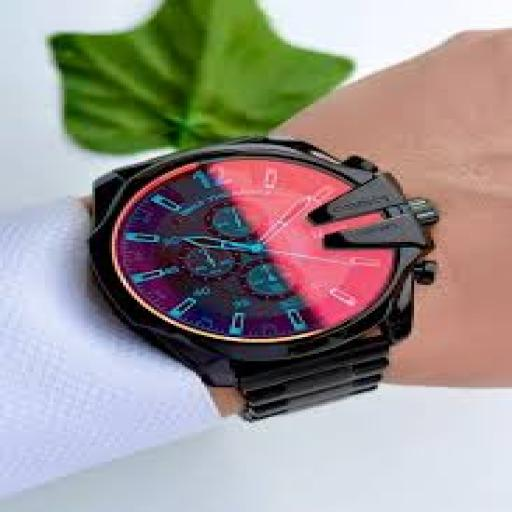KolSaati: (72, 96, 448, 427)
